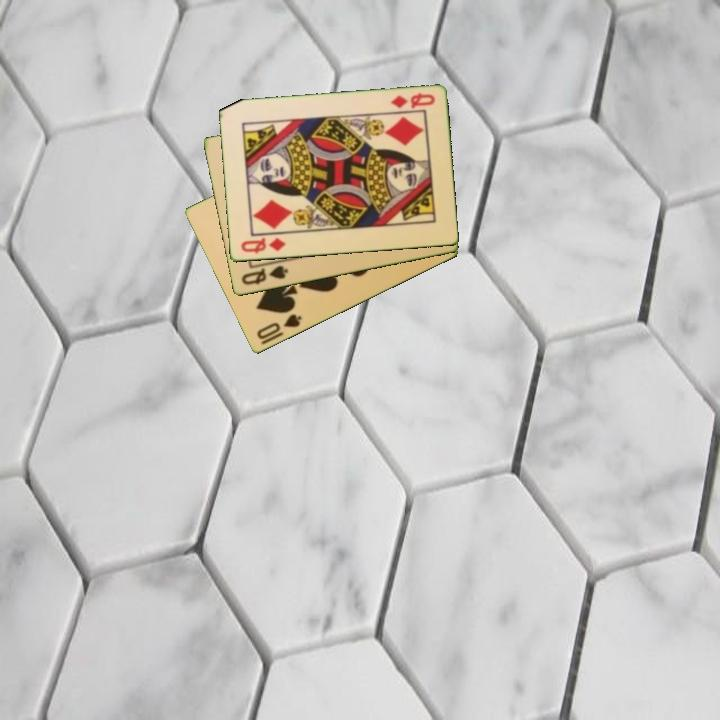10s: (253, 311, 304, 343)
Qd: (387, 89, 437, 112), (237, 235, 289, 257)
Qs: (238, 262, 291, 288)
